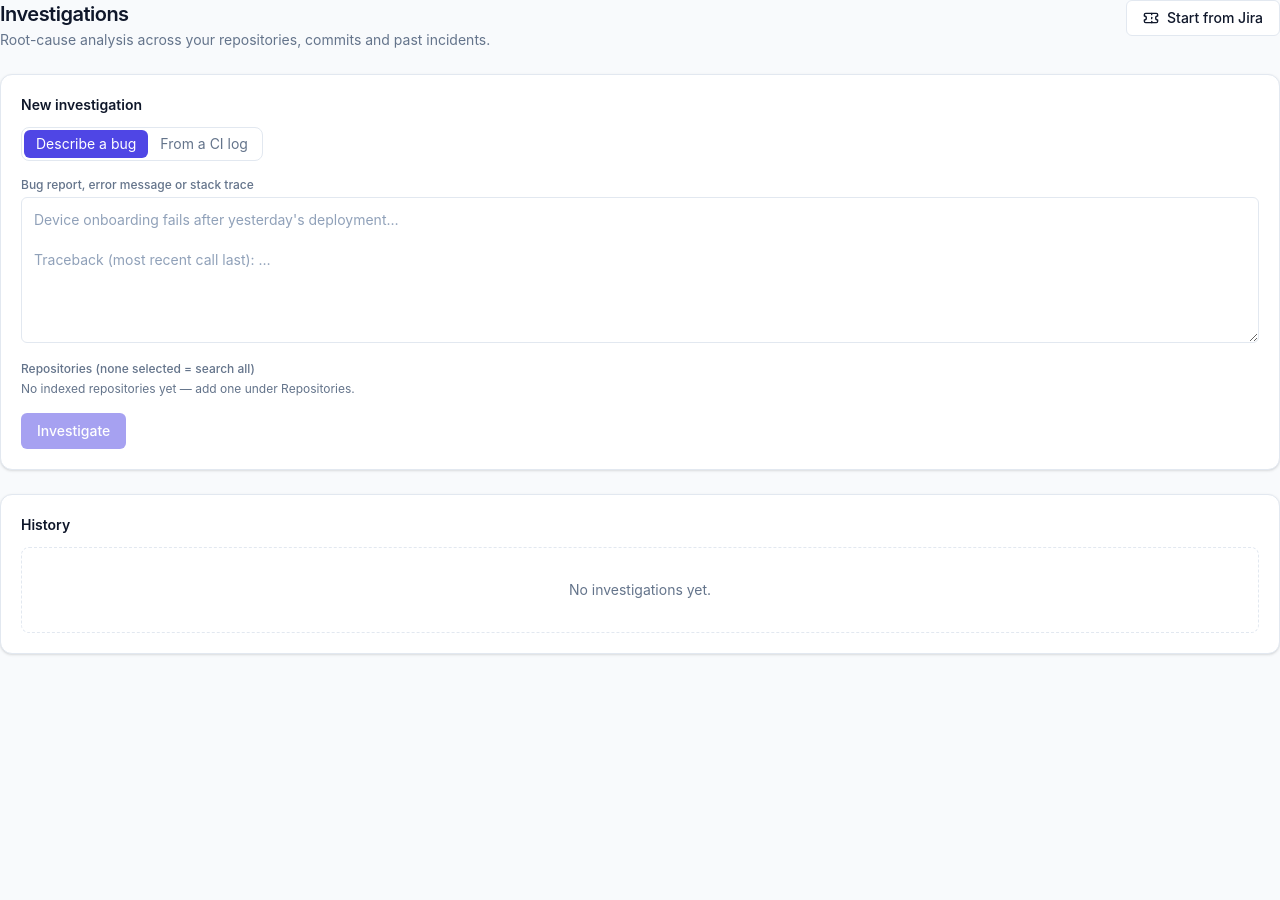
it: Investigations: start from Jira › opens a ticket picker with analyse and investigate actions
Click the button "Start from Jira" at (1203,18), box [1126,0,1279,36]
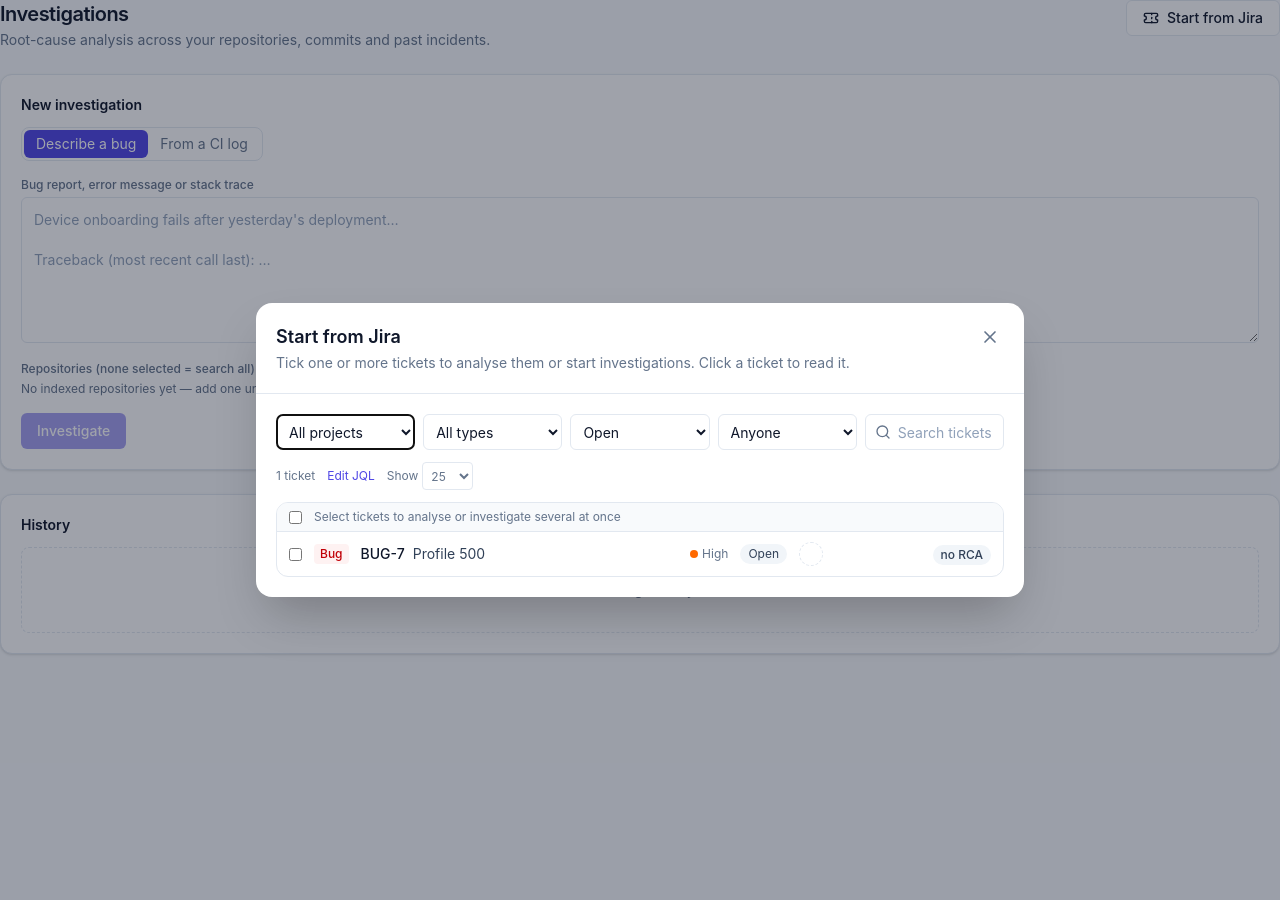
Click the checkbox named "Select BUG-7" at (296,554), box [289,548,302,560]
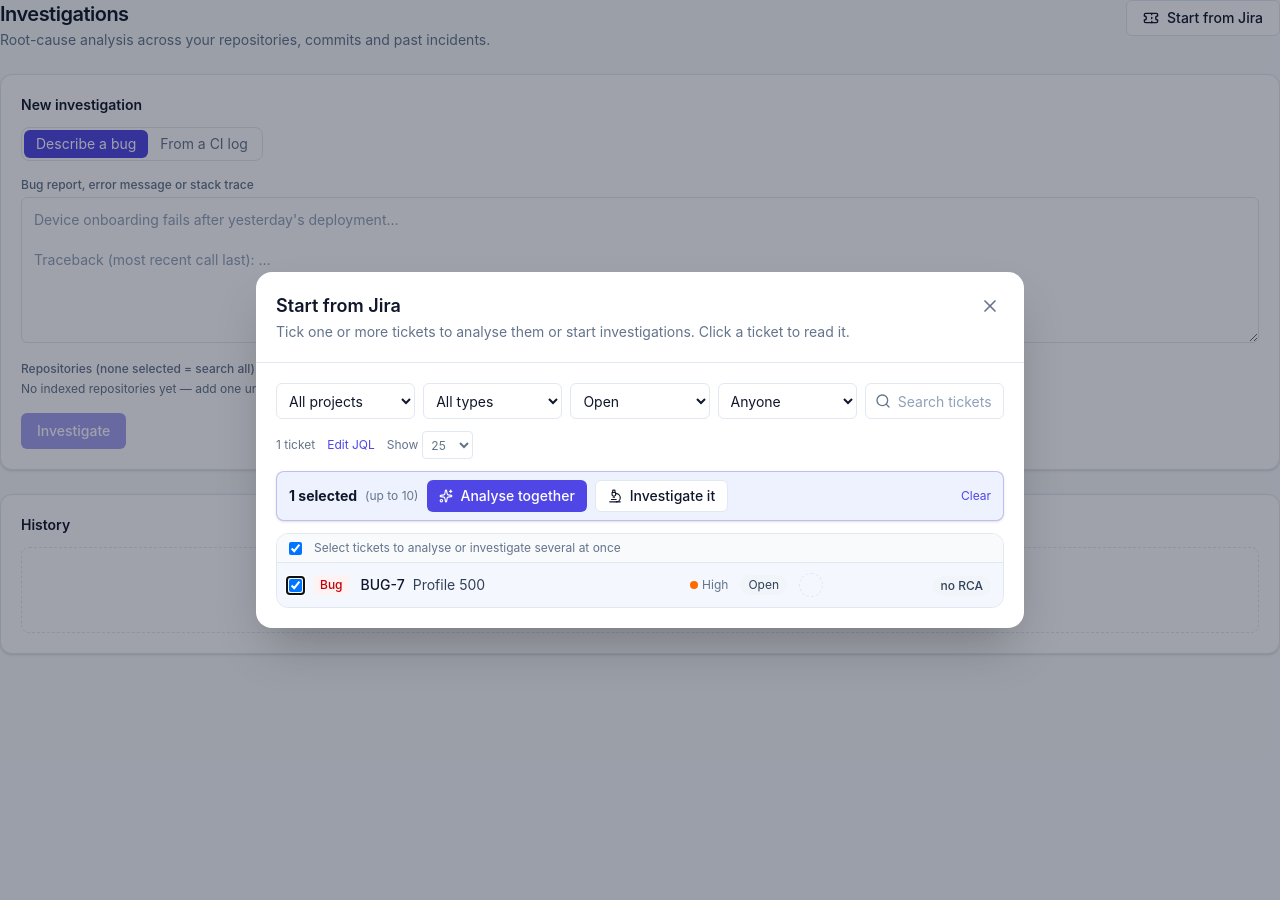
Expected: the button "Analyse together" is shown, [426,480,587,512]
Expected: the button "Investigate it" is shown, [595,480,728,512]
